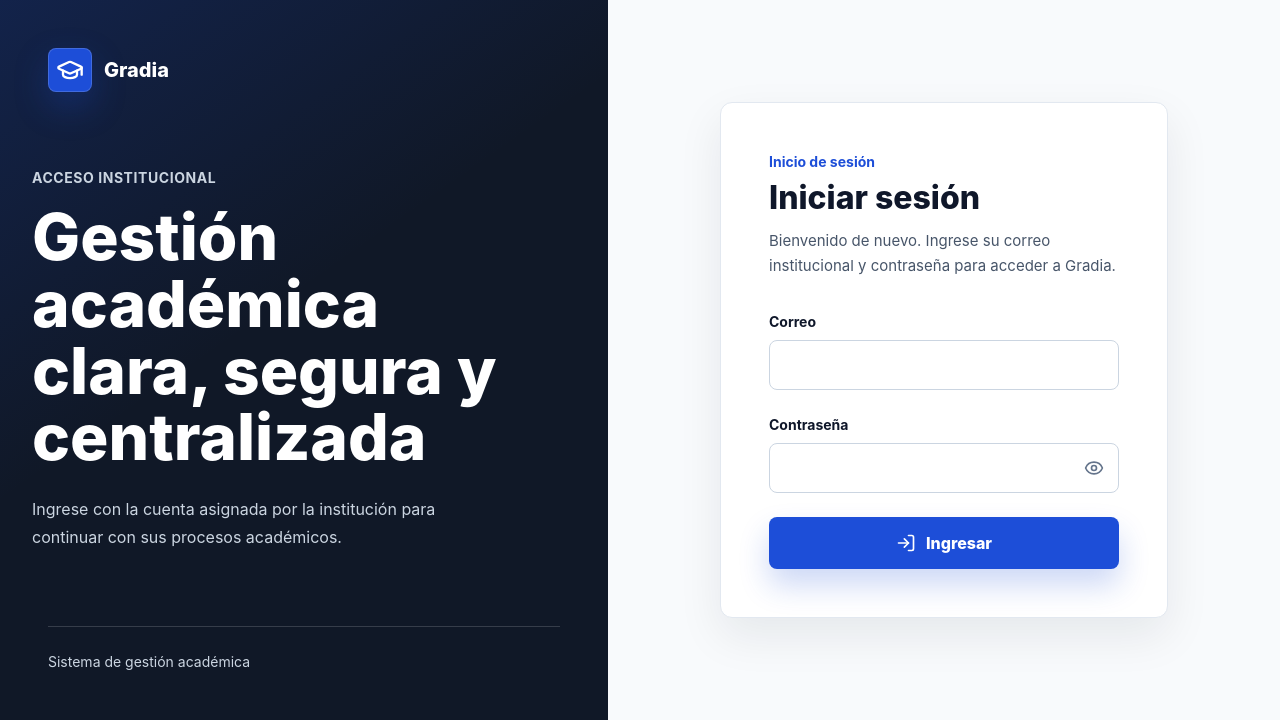
Test: página de inicio de sesión › exige la contraseña
The image size is (1280, 720).
Step 1. Type "ada@example.test" into the field labelled "Correo" → (944, 365), box top-left (769, 340), bottom-right (1119, 390)
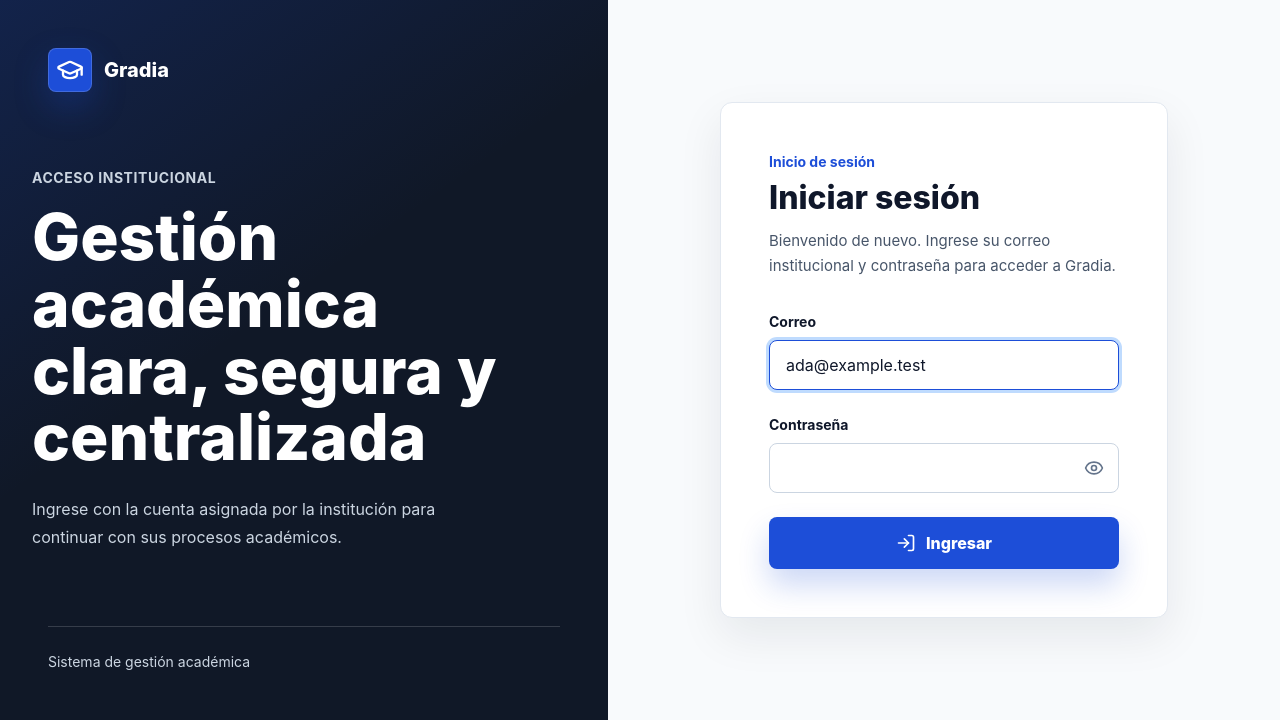
Step 2. Click the button "Ingresar" → (944, 543), box top-left (769, 517), bottom-right (1119, 569)
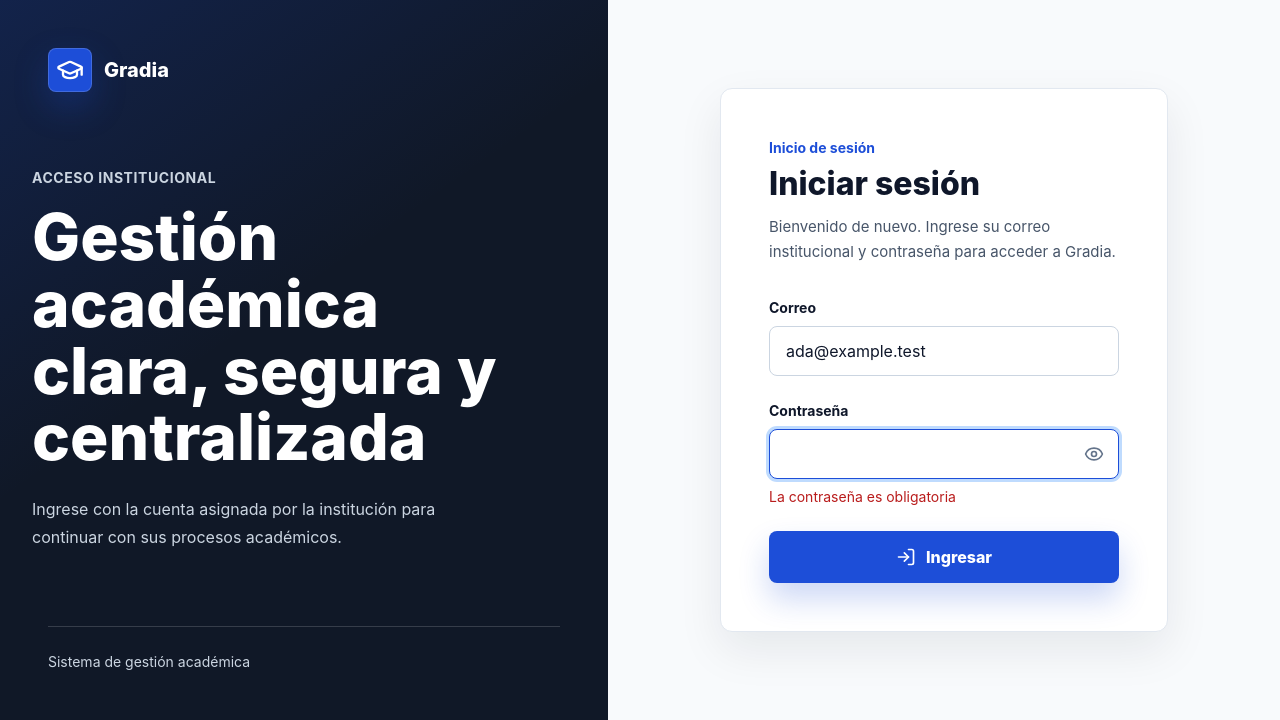
Now the text "La contraseña es obligatoria" is shown, box top-left (769, 488), bottom-right (956, 504)
